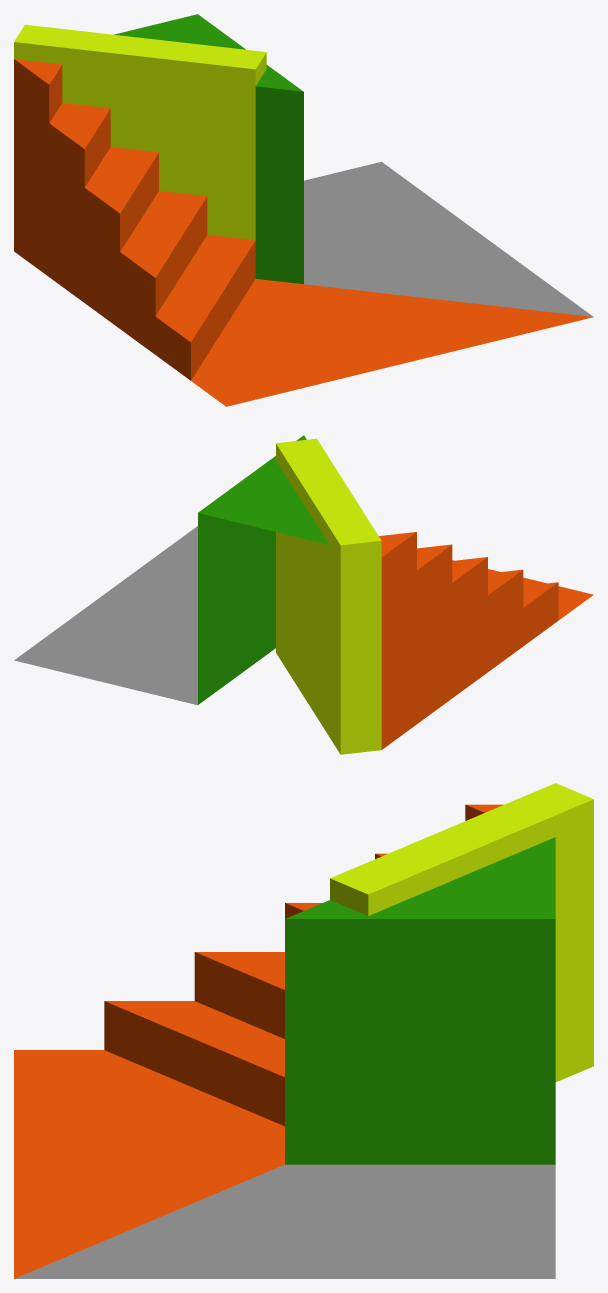
3 renders of one model, top to bottom at view 1: azimuth 30°, elevation 25°; view 2: azimuth 150°, elevation 25°; view 3: azimuth 270°, elevation 25°, orthographic. The views are drawn at different scales.
Parts seen in each view (by area): view 1: T_2_3_0; view 2: T_2_3_0; view 3: T_2_3_0.
Boxes of the visible parts, box(x1,y1,x2,y2) form: T_2_3_0: box(14, 14, 593, 406); T_2_3_0: box(14, 435, 593, 754); T_2_3_0: box(14, 783, 593, 1278).
Size of the model in its own units: 99.79 by 54.3 by 107.
